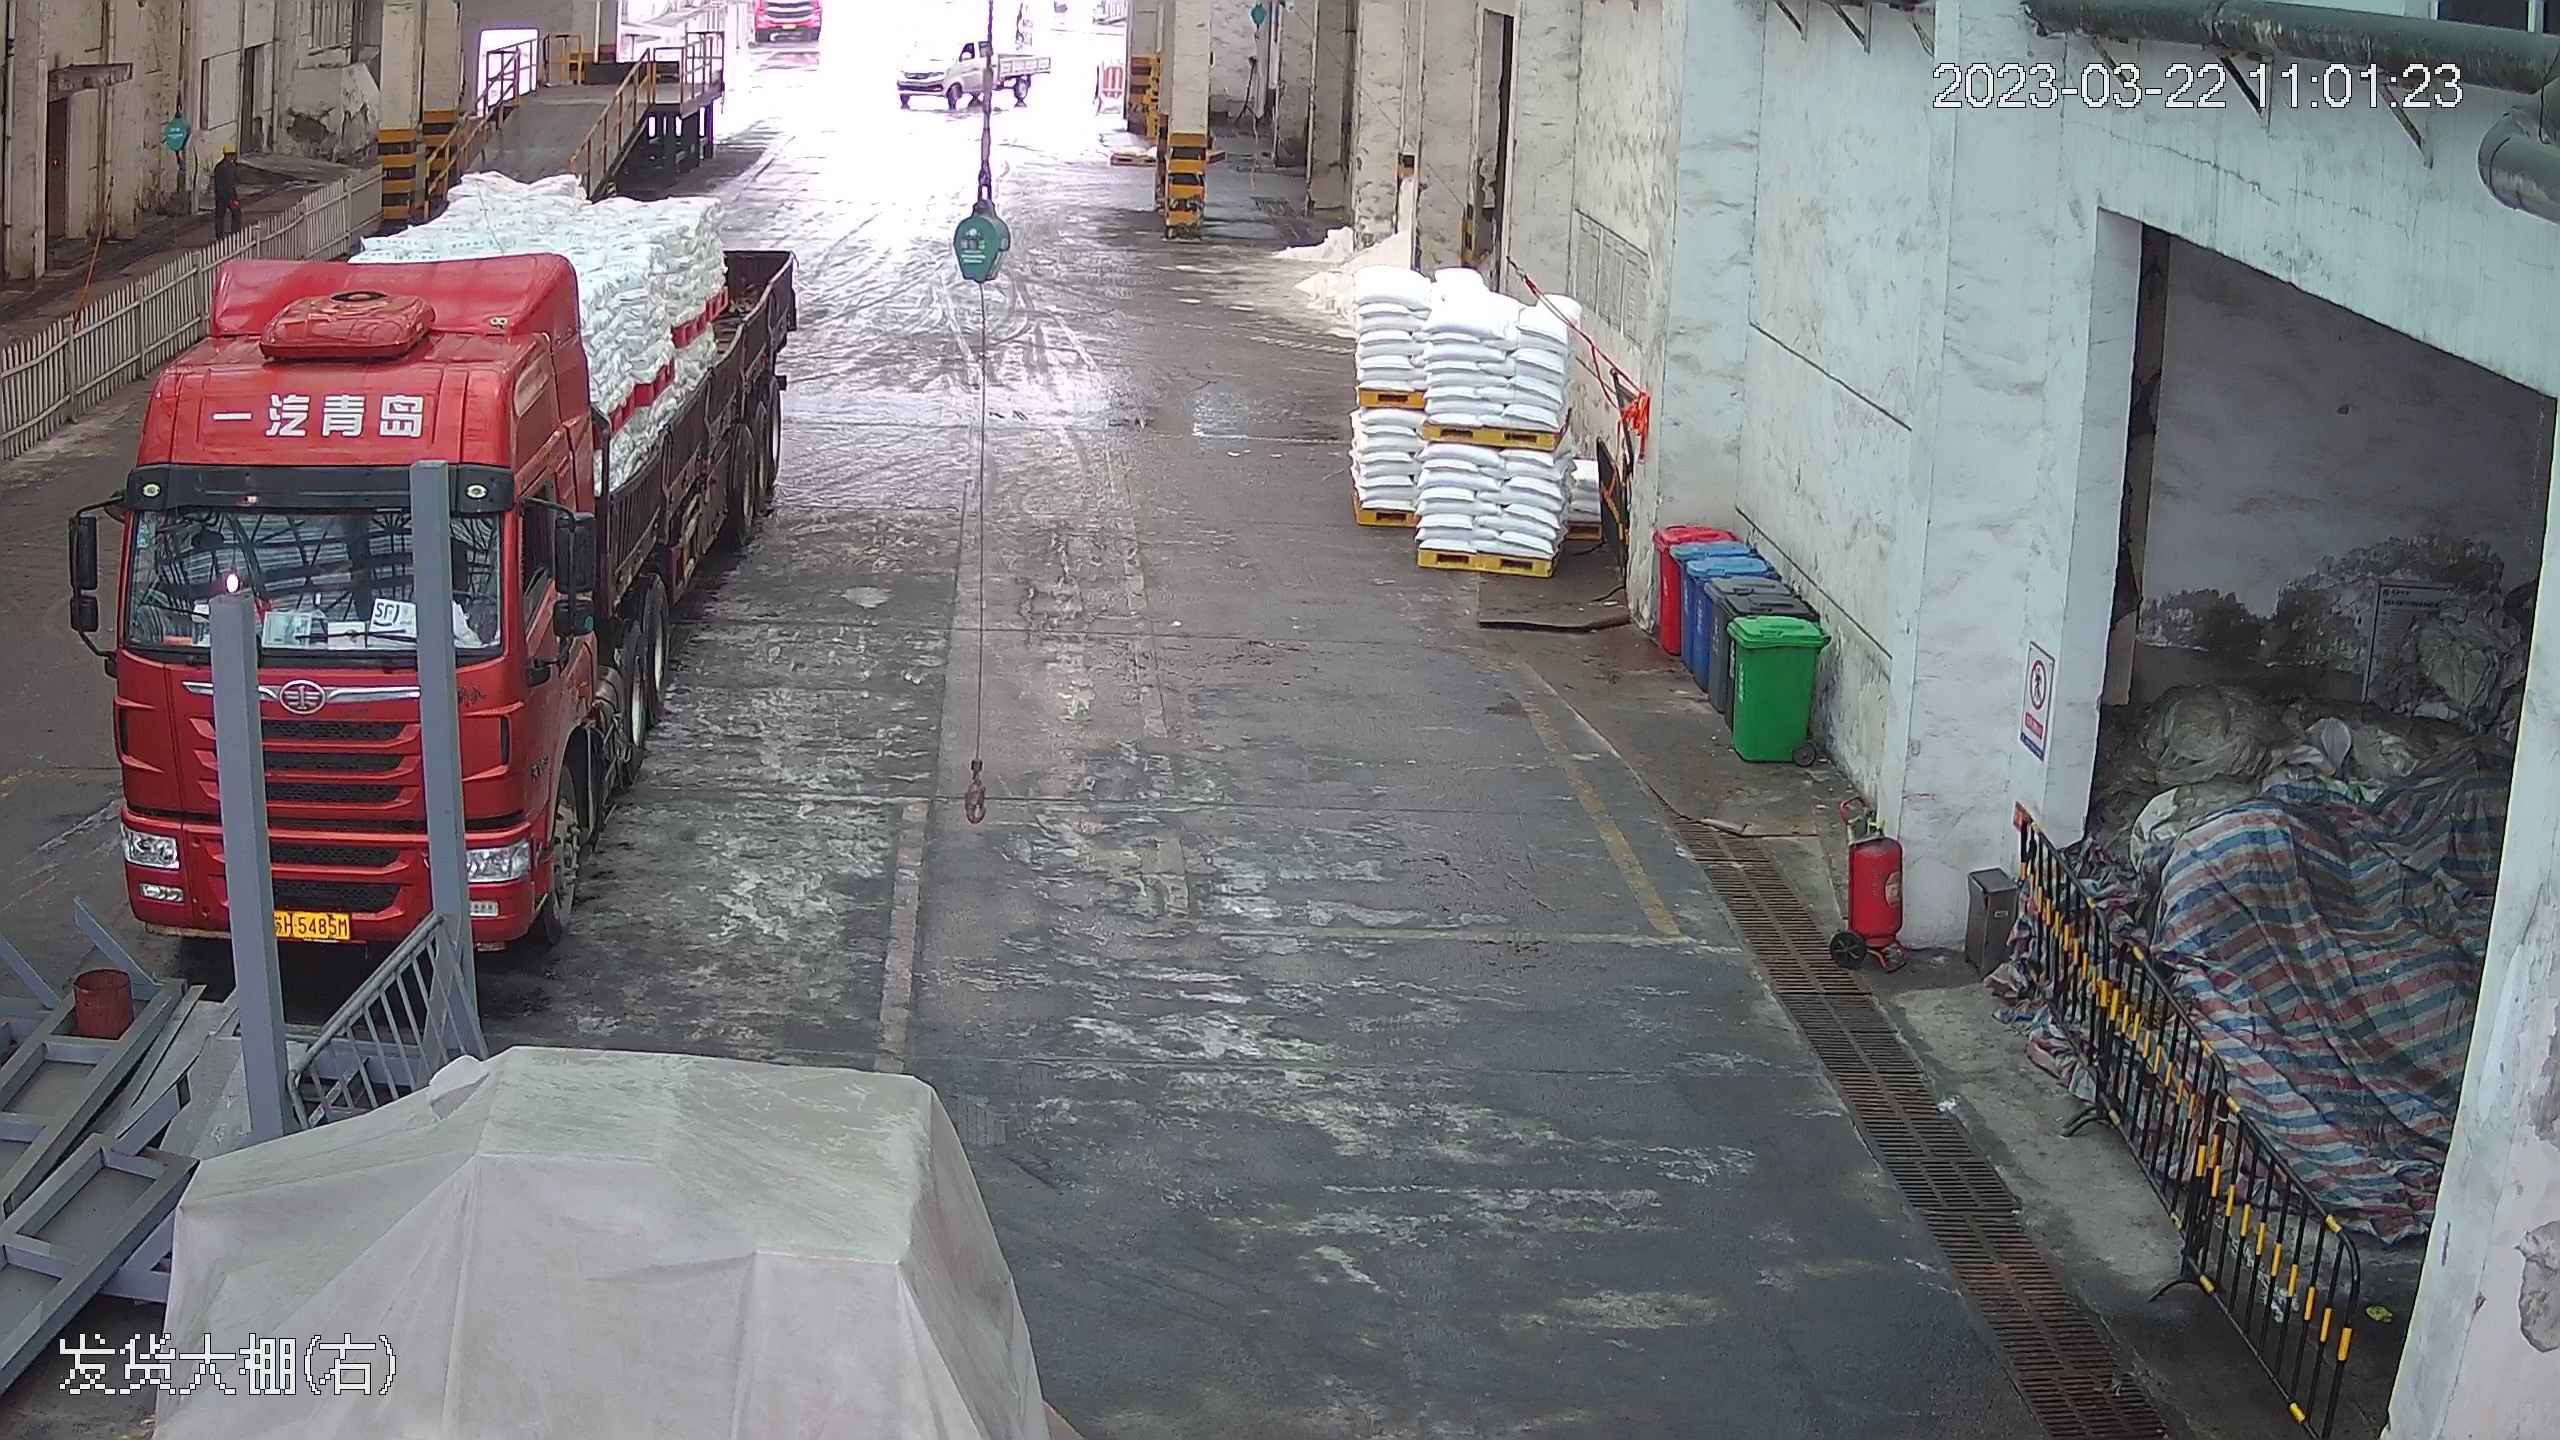head: (212, 143, 241, 181)
helmet: (222, 143, 236, 154)
people: (208, 143, 245, 233)
truck: (96, 198, 791, 969)
